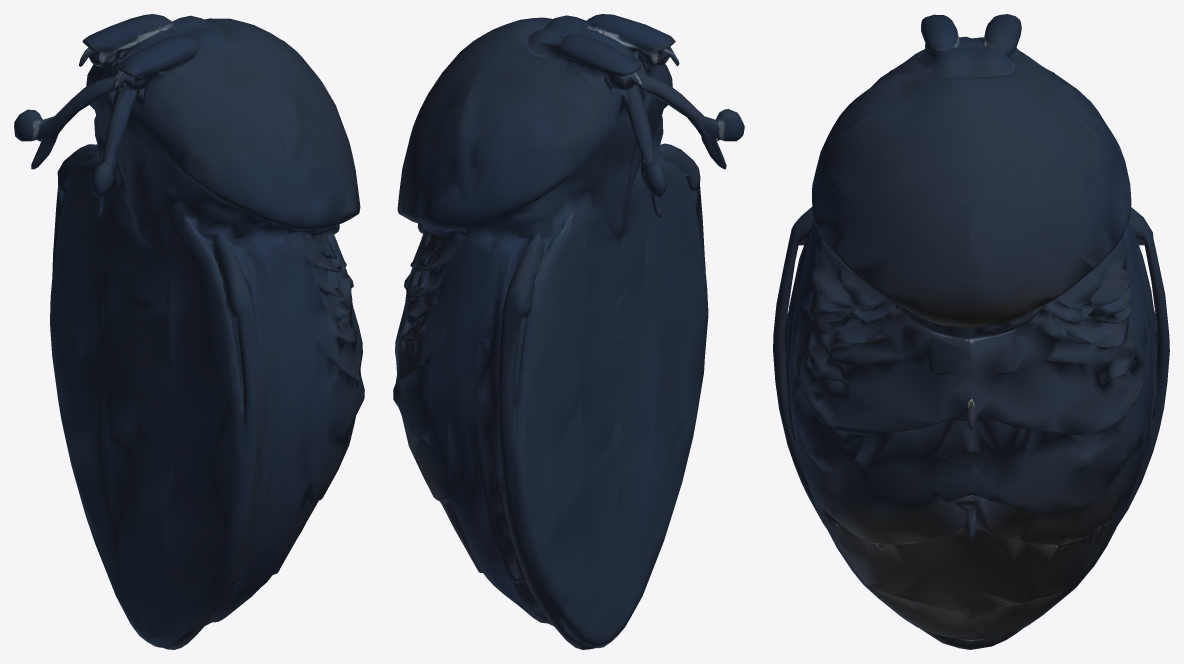
Rendered from body_small.glb.
3 views of the same model, side by side, from view 1: azimuth 30°, elevation 25°; view 2: azimuth 150°, elevation 25°; view 3: azimuth 270°, elevation 25° (orthographic).
Parts seen in each view (by area): view 1: tripo_node_a033d3f3-eaf6-4e7b-b8e3-d76f6921ca97; view 2: tripo_node_a033d3f3-eaf6-4e7b-b8e3-d76f6921ca97; view 3: tripo_node_a033d3f3-eaf6-4e7b-b8e3-d76f6921ca97.
Boxes of the visible parts, x1=… form: tripo_node_a033d3f3-eaf6-4e7b-b8e3-d76f6921ca97: x1=14, y1=14, x2=364, y2=649; tripo_node_a033d3f3-eaf6-4e7b-b8e3-d76f6921ca97: x1=393, y1=14, x2=744, y2=649; tripo_node_a033d3f3-eaf6-4e7b-b8e3-d76f6921ca97: x1=773, y1=14, x2=1169, y2=649.
Size of the model in its own units: 0.5078 by 0.9999 by 0.5814.
Materials: 1 (1 with a texture image).
